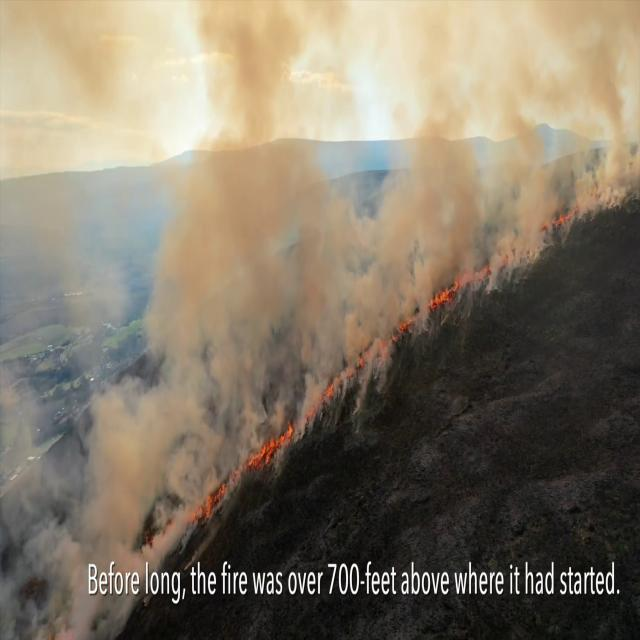Smoke: (412, 138, 474, 275), (101, 398, 169, 514), (506, 74, 554, 229), (592, 27, 627, 181), (294, 224, 322, 383), (340, 215, 362, 349), (387, 204, 396, 323)
